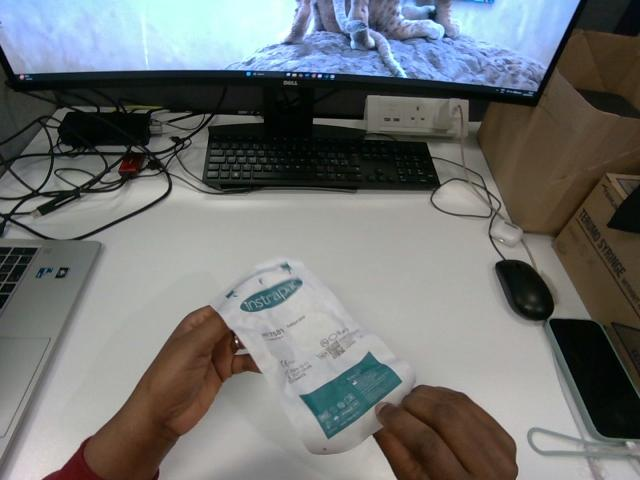gallipot: (212, 259, 414, 453)
